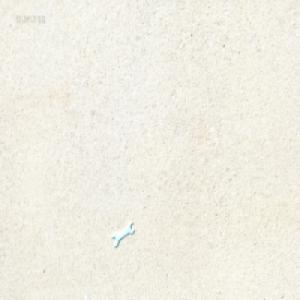Wrench: (112, 220, 134, 249)
